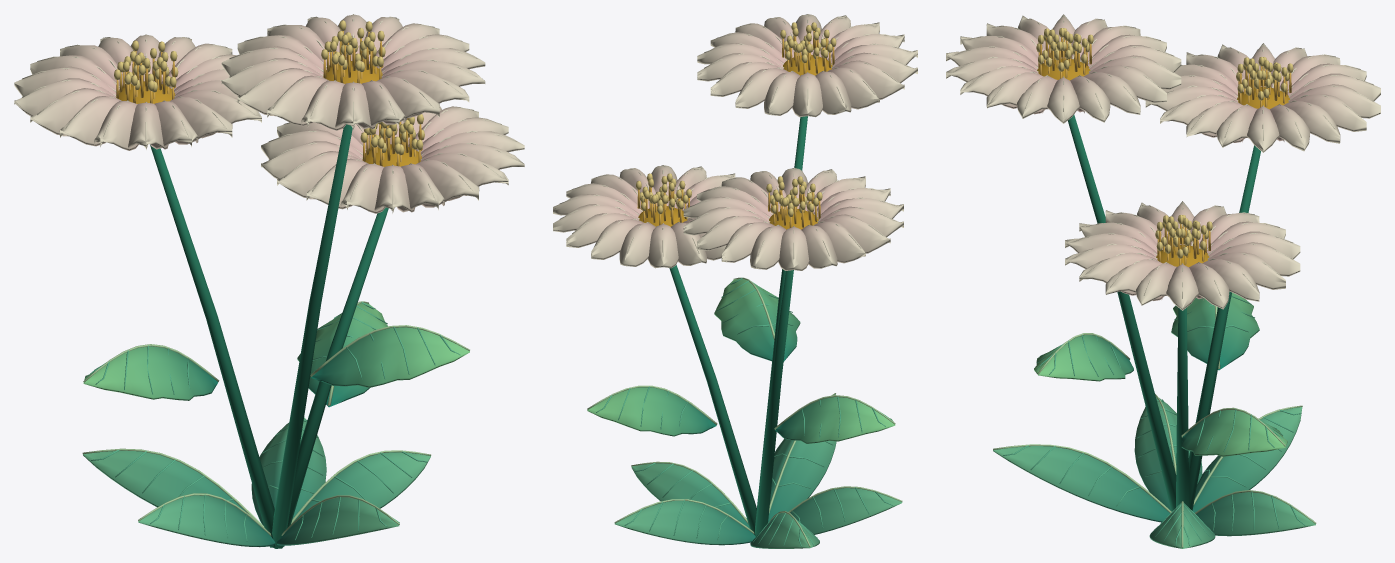
The model's file is enchanted-daisy.glb.
3 renders of one model, left to right at view 1: azimuth 30°, elevation 25°; view 2: azimuth 150°, elevation 25°; view 3: azimuth 270°, elevation 25°, orthographic. The views are drawn at different scales.
Parts seen in each view (by area): view 1: enchanted-daisy-sculpted-details; view 2: enchanted-daisy-sculpted-details; view 3: enchanted-daisy-sculpted-details.
Part boxes in pixels (x1,y1,x2,y2): enchanted-daisy-sculpted-details: [14, 14, 524, 548]; enchanted-daisy-sculpted-details: [553, 14, 917, 548]; enchanted-daisy-sculpted-details: [946, 14, 1380, 548].
Bounding box in the file's own units: 0.8076 × 1 × 0.7872.
